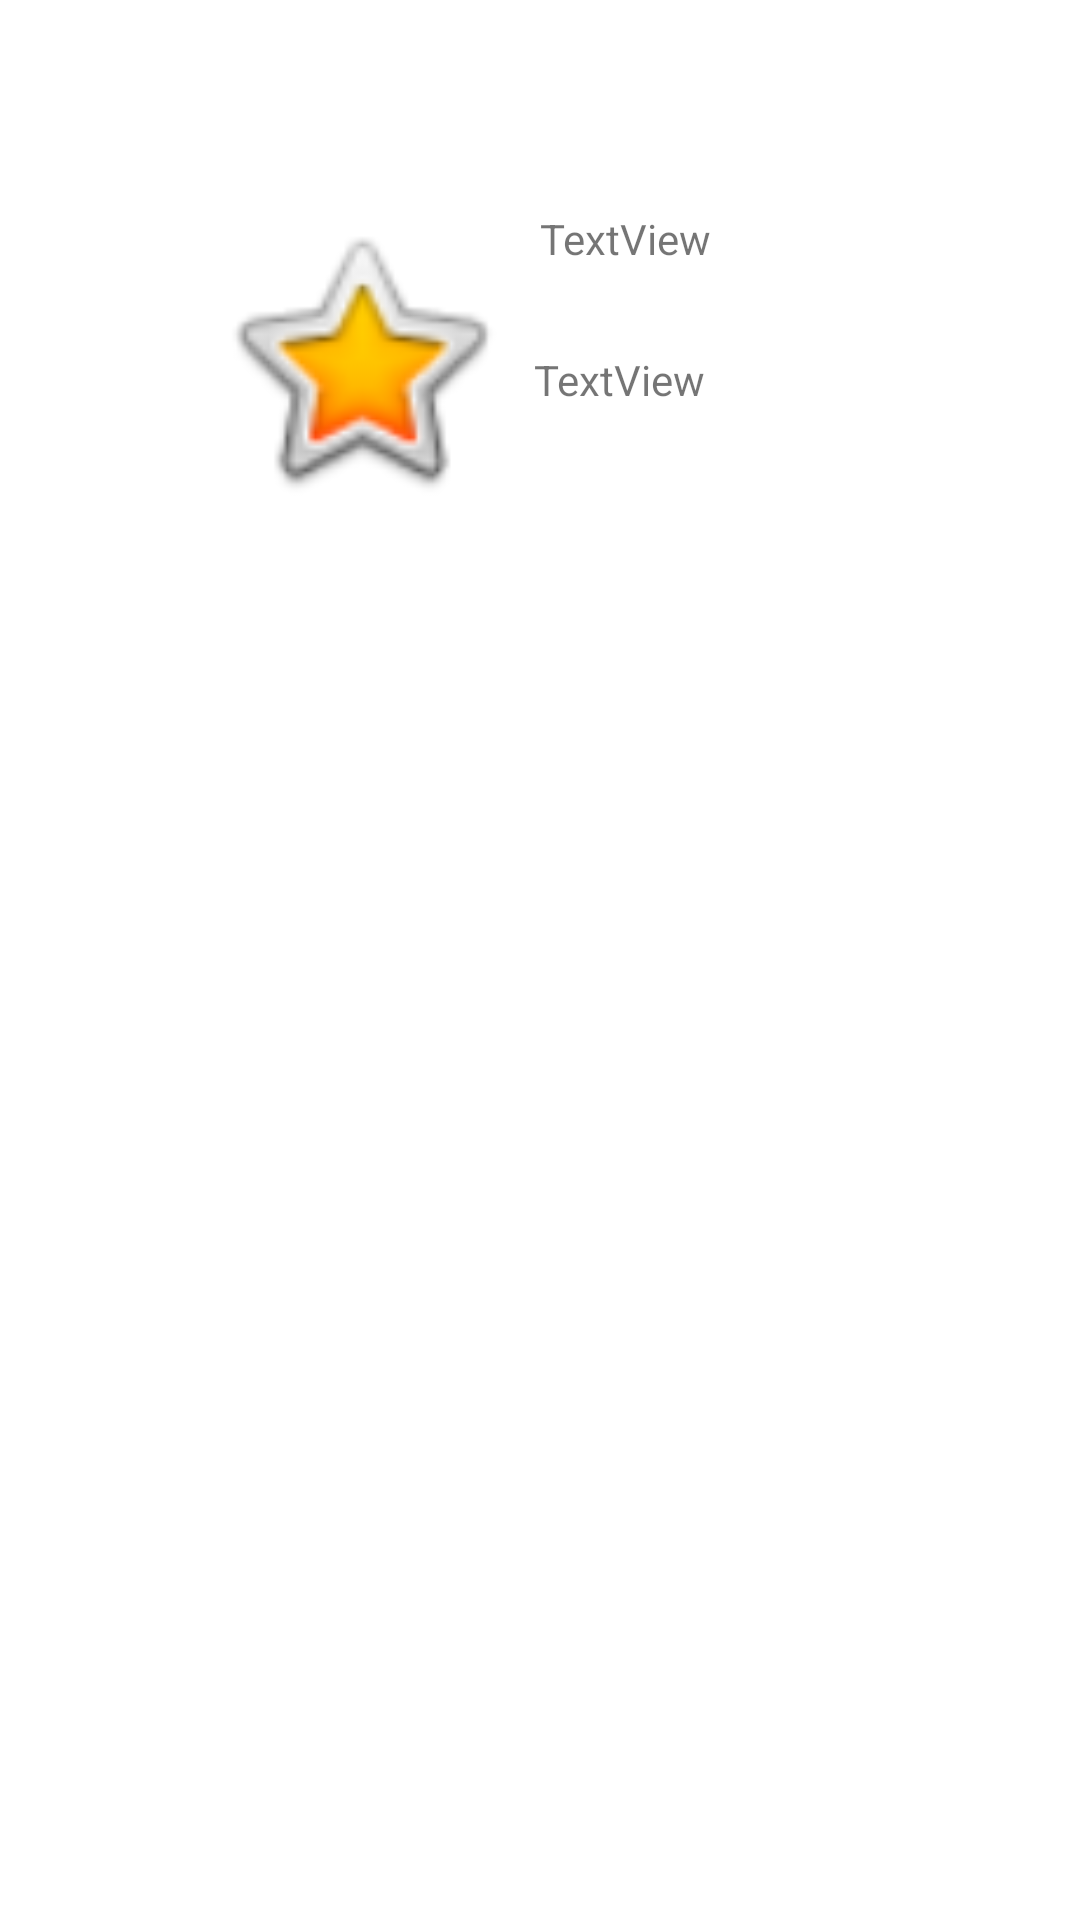

Locate icon controls on the screen. Image size 1080px×1920px, boxes as (x1, y1, x2, y2).
star on: (237, 240, 488, 485)
